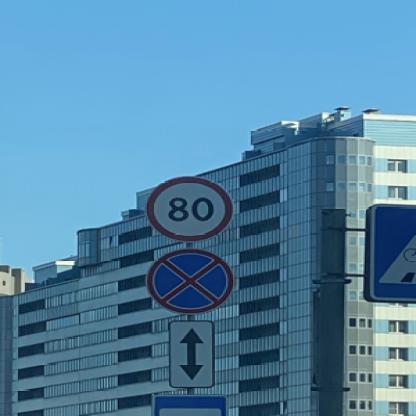crosswalk: (363, 200, 415, 300)
speedlimit: (142, 174, 232, 240)
